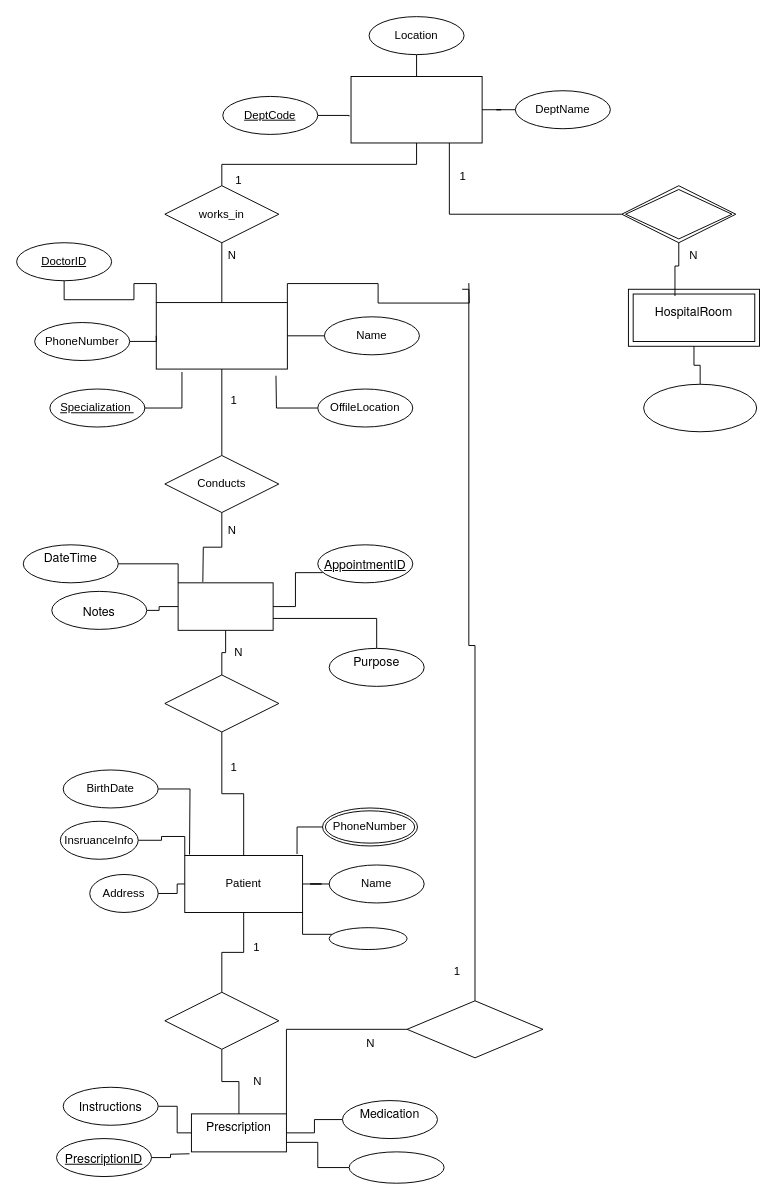
Some shapes in this 776 by 1200 pixel diagram are drawn without their labels. Each missing label, with the box of its shape:
Appointment: (177, 582, 273, 630)
Department: (350, 76, 482, 143)
Doctor: (155, 302, 287, 369)
Dosage: (348, 1151, 444, 1183)
For: (164, 674, 279, 732)
Has: (621, 185, 736, 243)
PatientID: (328, 927, 407, 950)
Prescribes: (406, 1000, 543, 1058)
Receives: (164, 991, 279, 1049)
RoomNumber: (643, 383, 757, 432)
